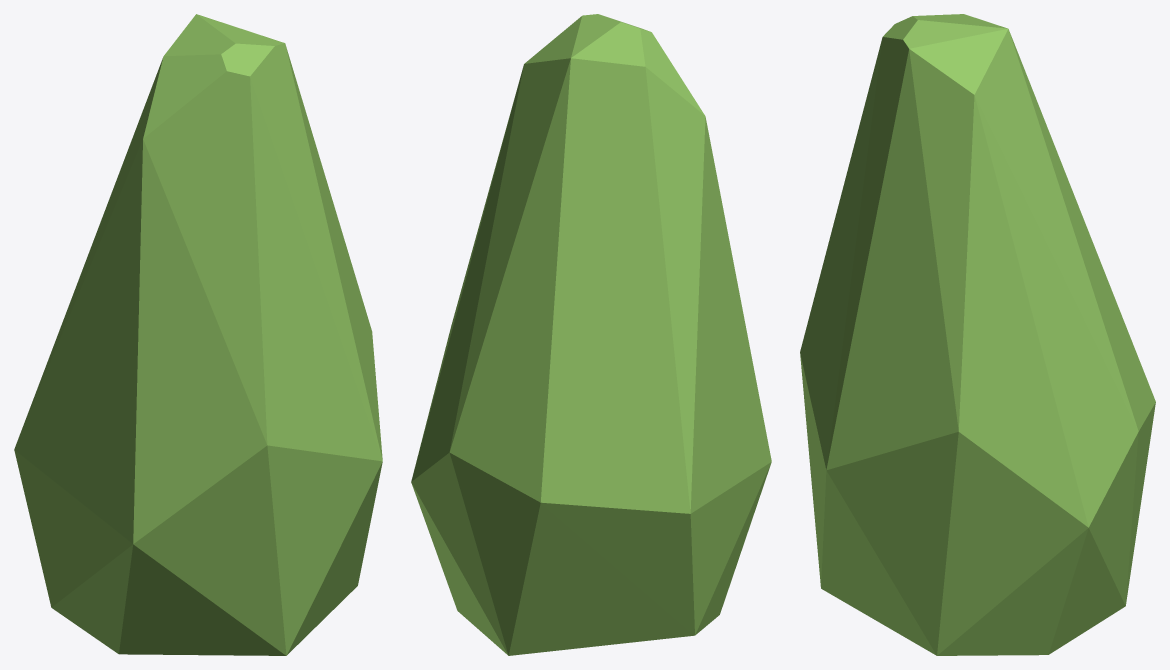
File: Thuja_BushTree_s_03_LOD.fbx
3 renders of one model, left to right at view 1: azimuth 30°, elevation 25°; view 2: azimuth 150°, elevation 25°; view 3: azimuth 270°, elevation 25°, orthographic. The views are drawn at different scales.
Parts seen in each view (by area): view 1: Thuja_BushTree_s_03_LOD0; view 2: Thuja_BushTree_s_03_LOD0; view 3: Thuja_BushTree_s_03_LOD0.
Boxes of the visible parts, x1,y1,x2,y2 form: Thuja_BushTree_s_03_LOD0: [14, 14, 382, 655]; Thuja_BushTree_s_03_LOD0: [411, 14, 771, 655]; Thuja_BushTree_s_03_LOD0: [800, 14, 1155, 655].
Size of what is drawn, in the model's own units: 103 by 198 by 106.
